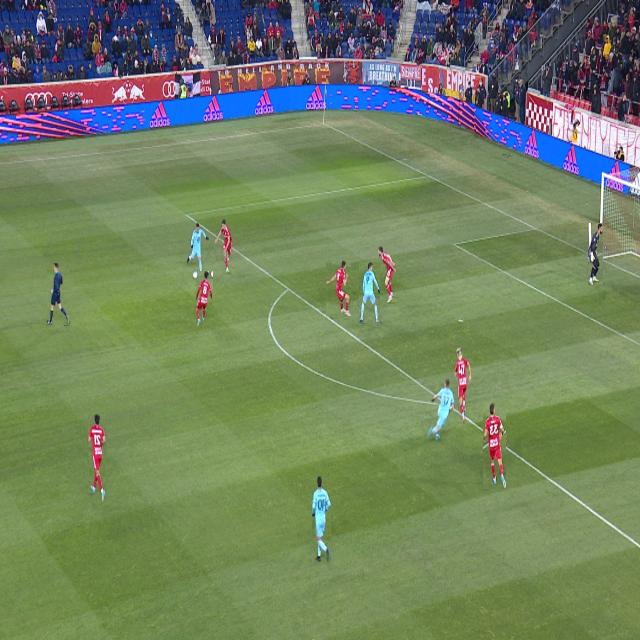football: (193, 270, 198, 279)
goalkeeper: (588, 224, 603, 285)
player: (484, 402, 506, 489), (312, 476, 331, 563), (427, 379, 454, 440), (88, 414, 106, 502), (326, 261, 351, 316), (455, 348, 471, 424), (360, 263, 380, 323), (187, 223, 208, 274), (378, 246, 396, 302), (196, 272, 213, 327), (215, 219, 232, 273)
referee: (47, 263, 69, 325)
